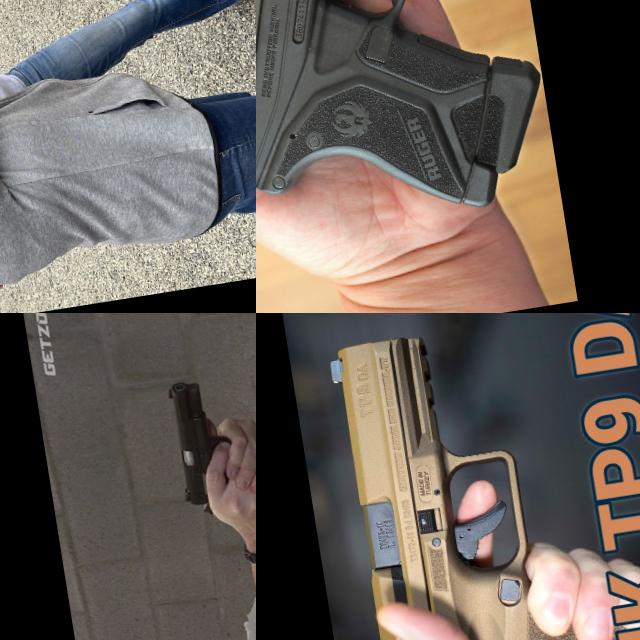handgun: (316, 313, 640, 640), (256, 0, 561, 272), (162, 371, 247, 523), (0, 0, 29, 46)
